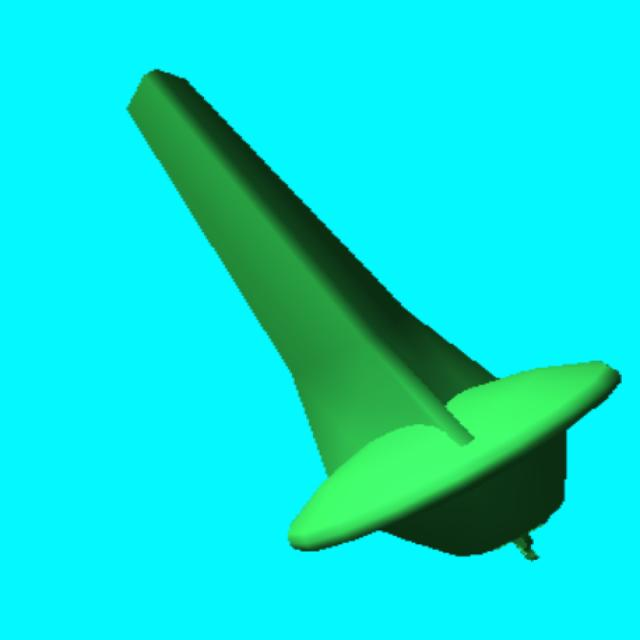GreenBuoy: (128, 72, 621, 558)
